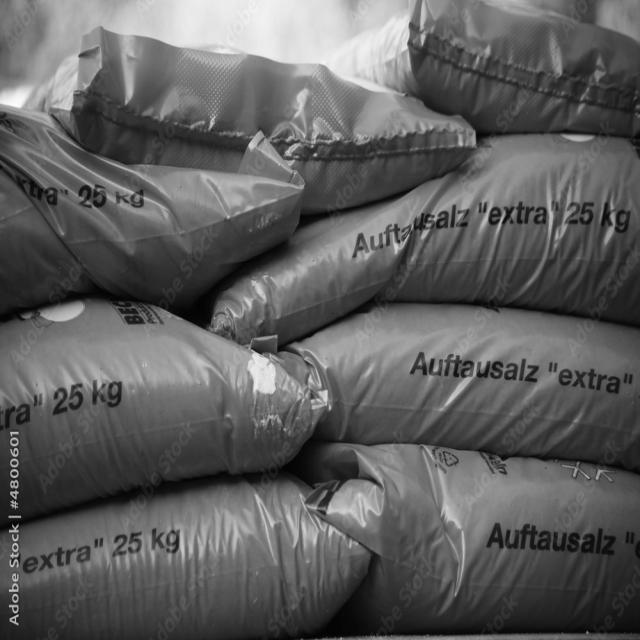sack: (207, 134, 639, 346), (27, 25, 476, 214), (1, 298, 328, 528), (300, 442, 640, 632), (1, 104, 303, 314), (264, 302, 638, 468), (1, 473, 371, 639), (333, 1, 639, 131)
